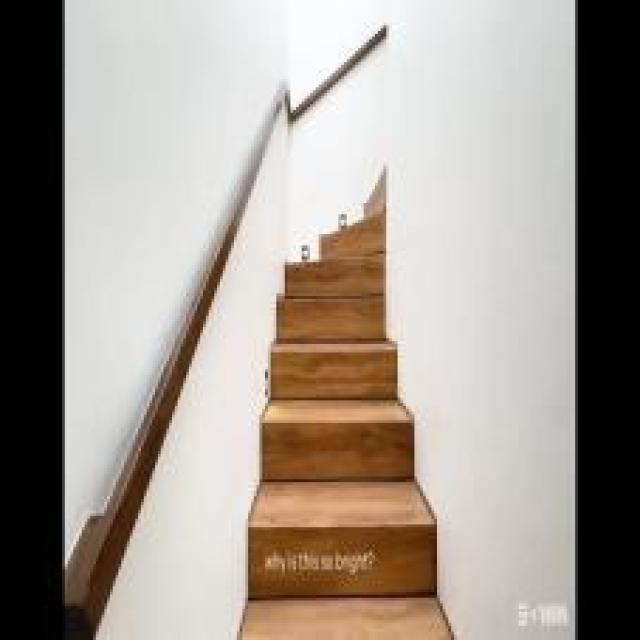upstair: (272, 261, 385, 639)
